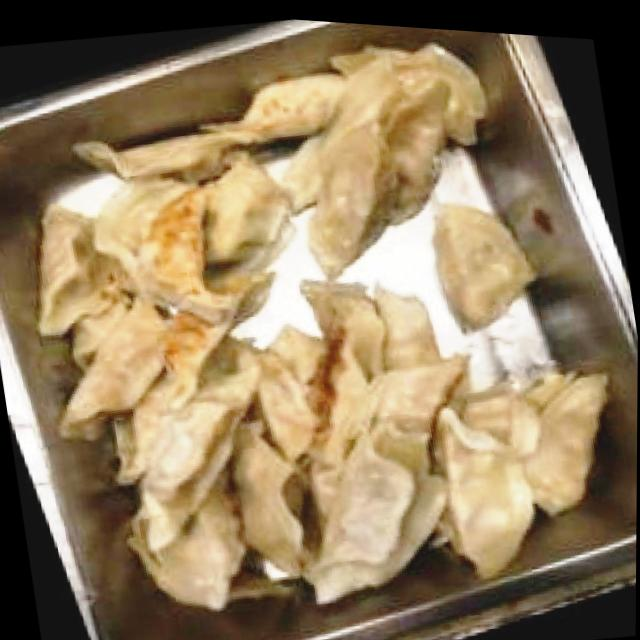fried_dumplings: (288, 411, 465, 614), (119, 348, 287, 560), (86, 165, 231, 338), (149, 259, 294, 418), (287, 318, 394, 518), (69, 95, 270, 201), (48, 292, 187, 444), (433, 397, 545, 585), (293, 117, 413, 286), (122, 478, 253, 625), (513, 365, 630, 524), (427, 192, 544, 343), (369, 74, 471, 231), (18, 198, 125, 343), (200, 62, 360, 155), (228, 412, 312, 582), (255, 342, 325, 465)
